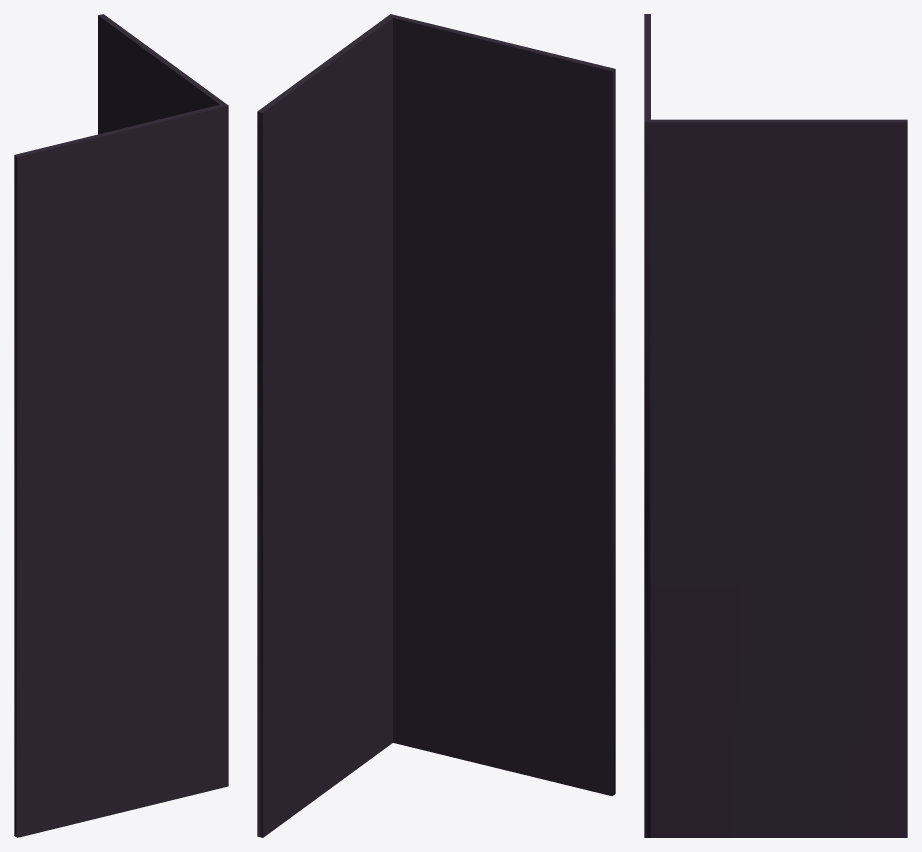
The model's file is Wall_Corner_In.fbx.
3 renders of one model, left to right at view 1: azimuth 30°, elevation 25°; view 2: azimuth 150°, elevation 25°; view 3: azimuth 270°, elevation 25°, orthographic. The views are drawn at different scales.
Parts seen in each view (by area): view 1: polySurface10; view 2: polySurface10; view 3: polySurface10.
Part boxes in pixels (x1,y1,x2,y2): polySurface10: (14,14,228,837); polySurface10: (257,14,615,837); polySurface10: (644,14,907,837).
Size of the model in its own units: 97.48 by 300 by 100.
1 material, 1 textured.
